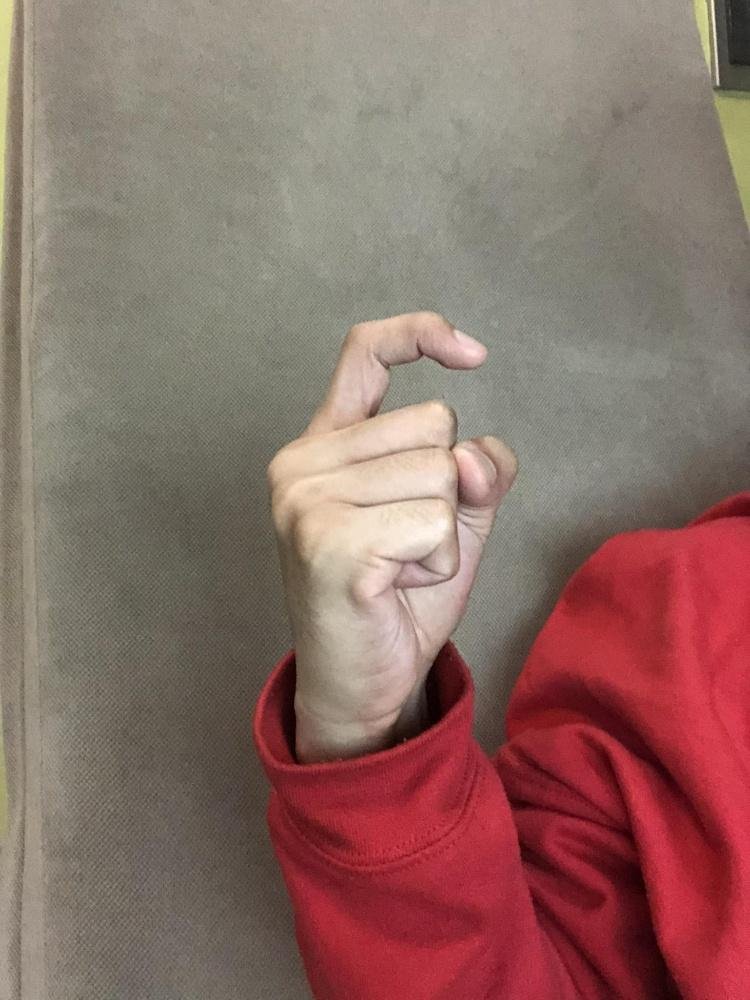x: (261, 303, 523, 722)
